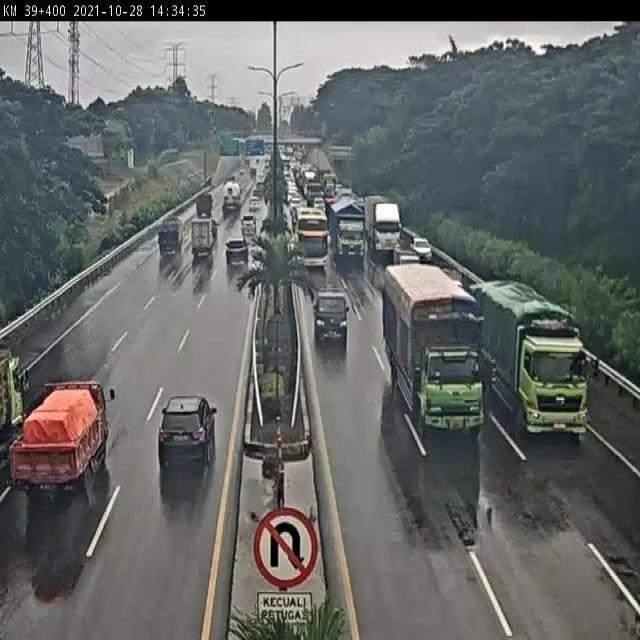big bus: (293, 208, 330, 271)
big truck: (472, 279, 601, 441), (383, 265, 488, 443), (329, 195, 370, 264), (364, 188, 402, 255)
car: (158, 399, 217, 468), (311, 292, 350, 343), (225, 239, 248, 269), (412, 235, 434, 261), (242, 214, 255, 230)
small truck: (14, 376, 114, 508), (156, 219, 184, 256), (190, 219, 213, 257), (193, 192, 214, 221)
